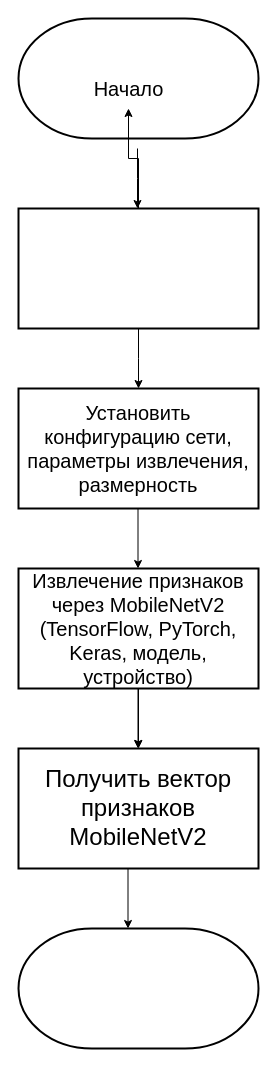
Image size: 276x1066. Some labels were removed from this diagram. Here are the shapes that lost their labels. From the top down, the box of each, then its label:
(17, 207, 259, 329): Получить предобработанное изображение
(17, 927, 259, 1049): Конец
